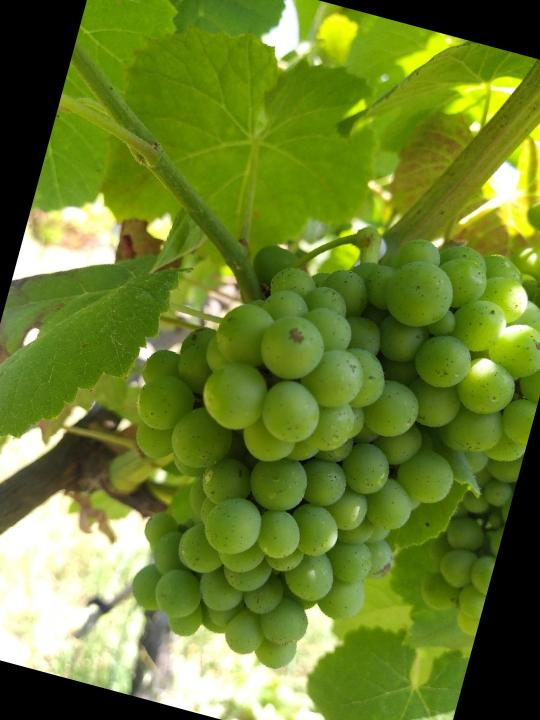grape: (73, 169, 540, 718)
